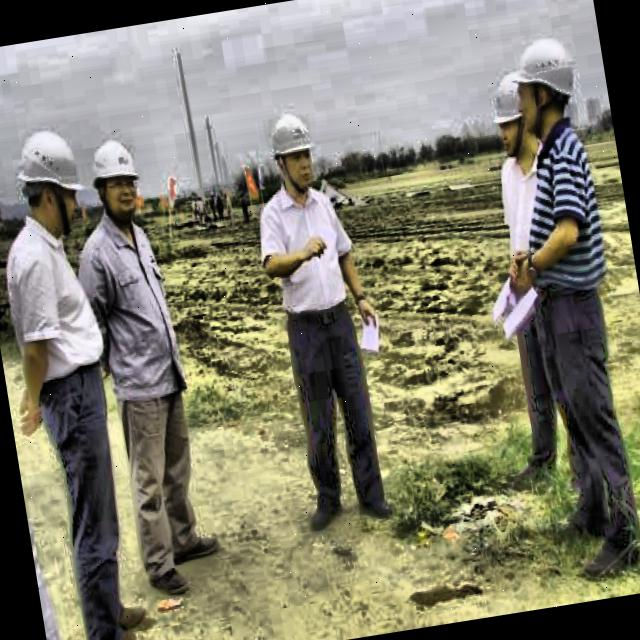helmet: (10, 119, 95, 244), (498, 29, 587, 144), (80, 130, 151, 229), (260, 100, 324, 200), (482, 61, 540, 165)
